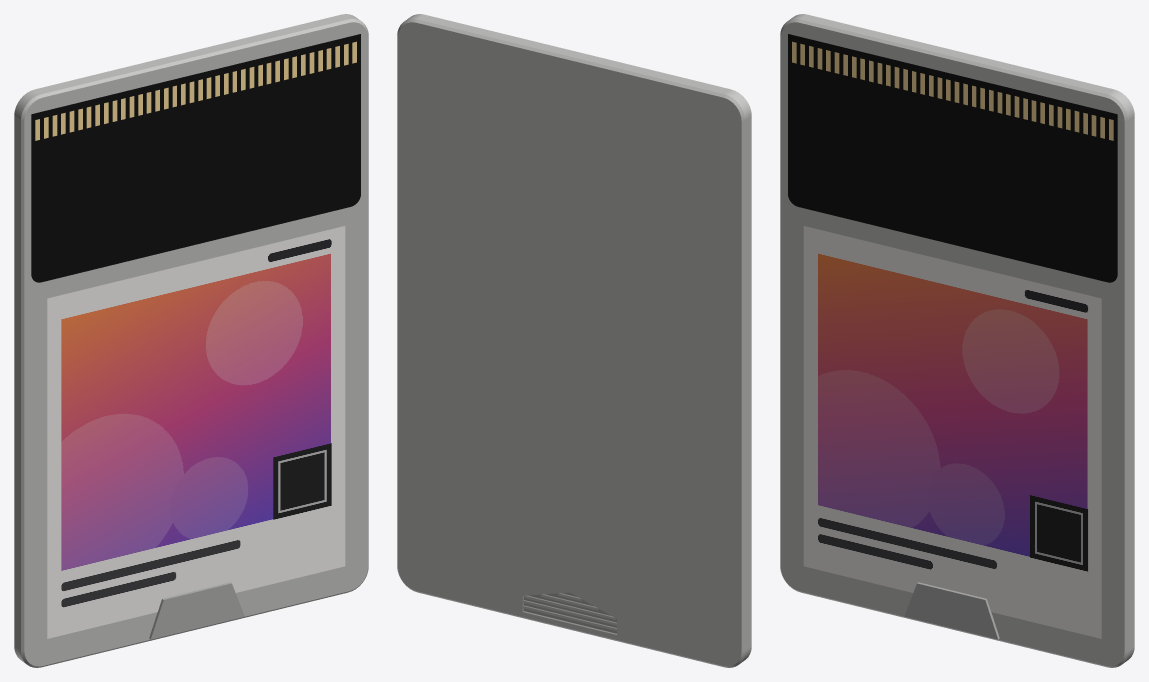
The picture shows the model from 3 angles, left to right: view 1: azimuth 30°, elevation 25°; view 2: azimuth 150°, elevation 25°; view 3: azimuth 330°, elevation 25°; orthographic projection.
Visible parts, largest first — view 1: body, label, contacts; view 2: body; view 3: body, label, contacts.
Part boxes in pixels (left/top/right/bottom): body: left=14, top=14, right=368, bottom=667; label: left=47, top=226, right=345, bottom=638; contacts: left=35, top=41, right=356, bottom=140; body: left=397, top=14, right=751, bottom=667; body: left=780, top=14, right=1134, bottom=667; label: left=803, top=226, right=1101, bottom=638; contacts: left=792, top=41, right=1113, bottom=140.
Size of the model in its own units: 0.054 by 0.085 by 0.00295.
Materials: 3 (1 with a texture image).
